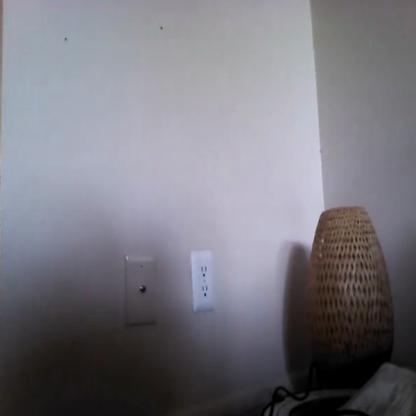OUTLET: (190, 250, 214, 312)
